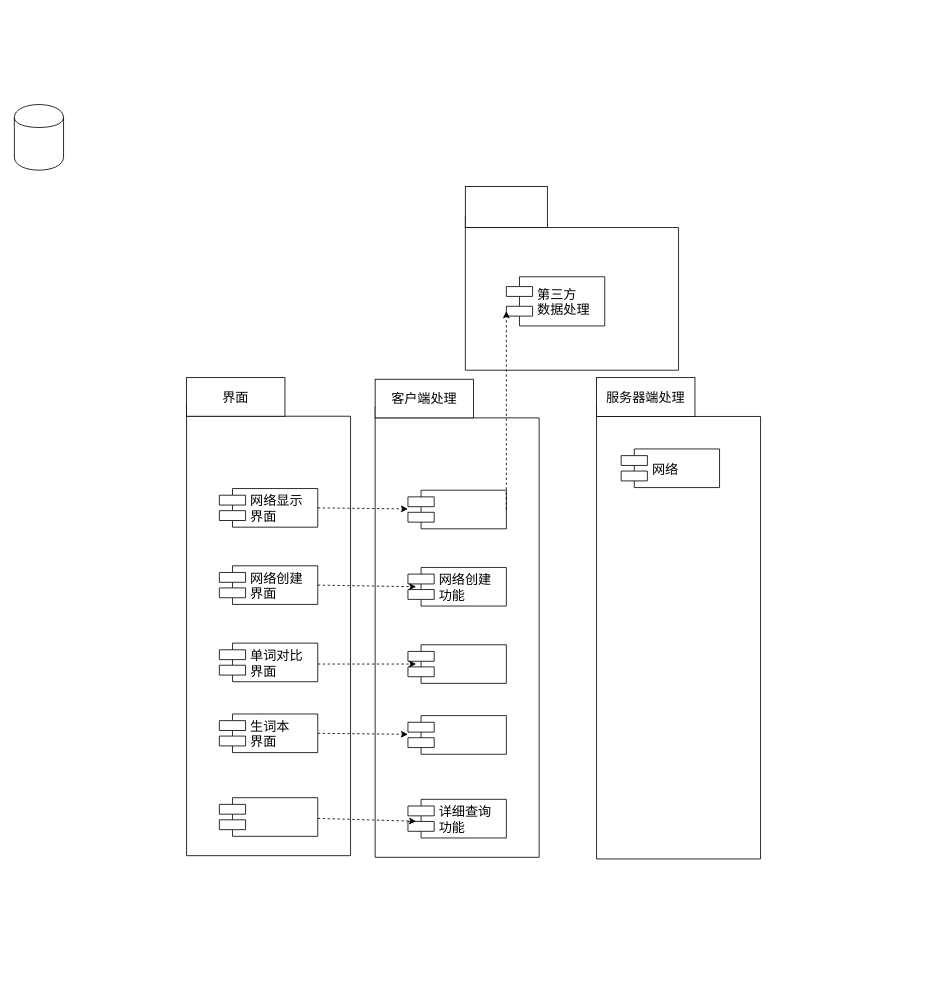
Image size: 939x1000. Some labels were removed from this diagram. Each missing label, with the centre of its shape:
单词对比 功能: point (456, 663)
添加生词 功能: point (456, 734)
第三方服务: point (506, 207)
翻译功能: point (456, 509)
详细查询 界面: point (268, 816)
